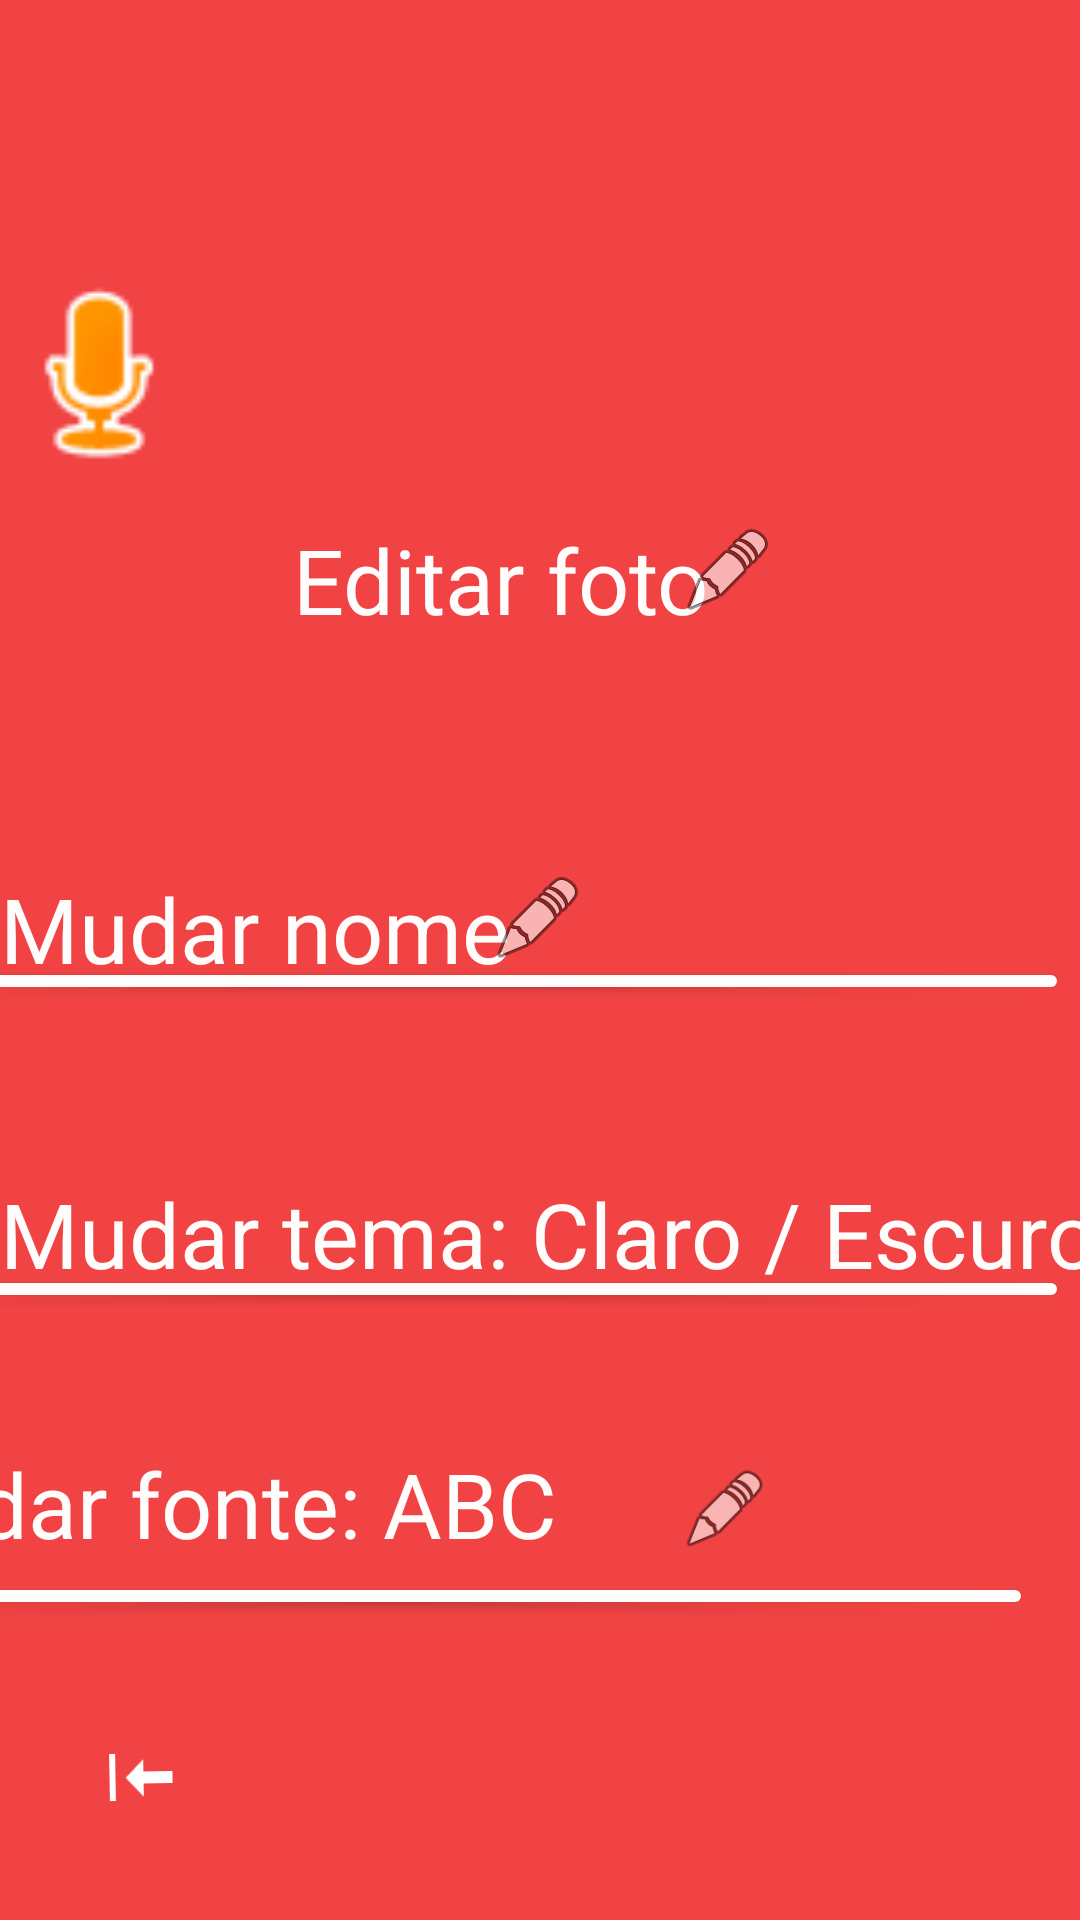

Icon bounding boxes for this 1080×1920 phone screenshot, format rect(x1, y1, x2, y2):
presence audio away: rect(44, 289, 154, 459)
